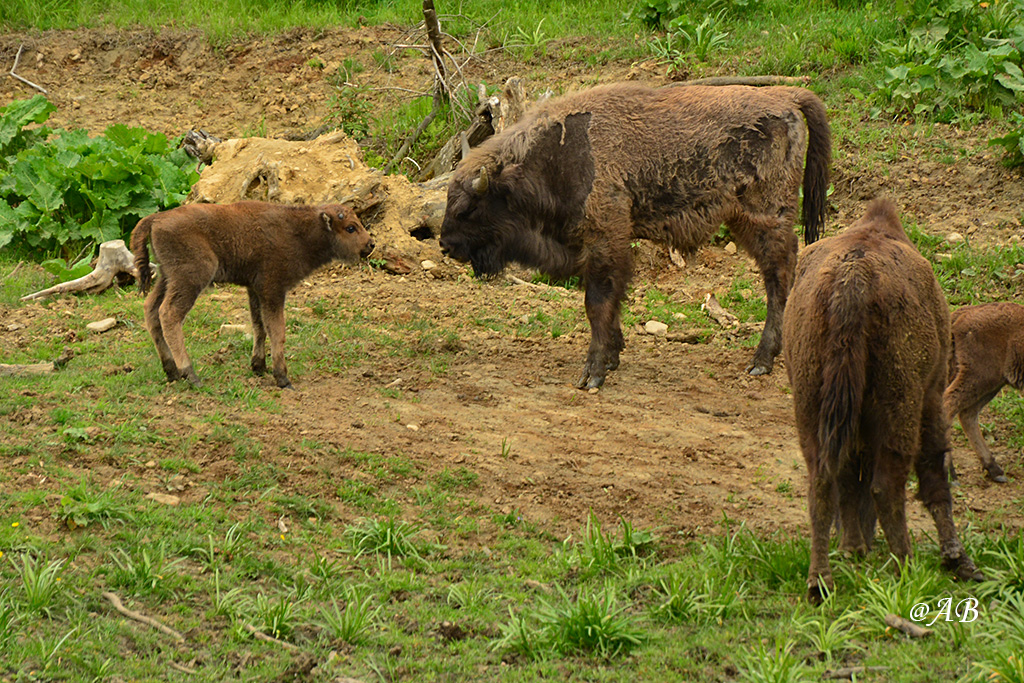zubr: (414, 34, 841, 413), (774, 177, 968, 613), (103, 209, 401, 400)
